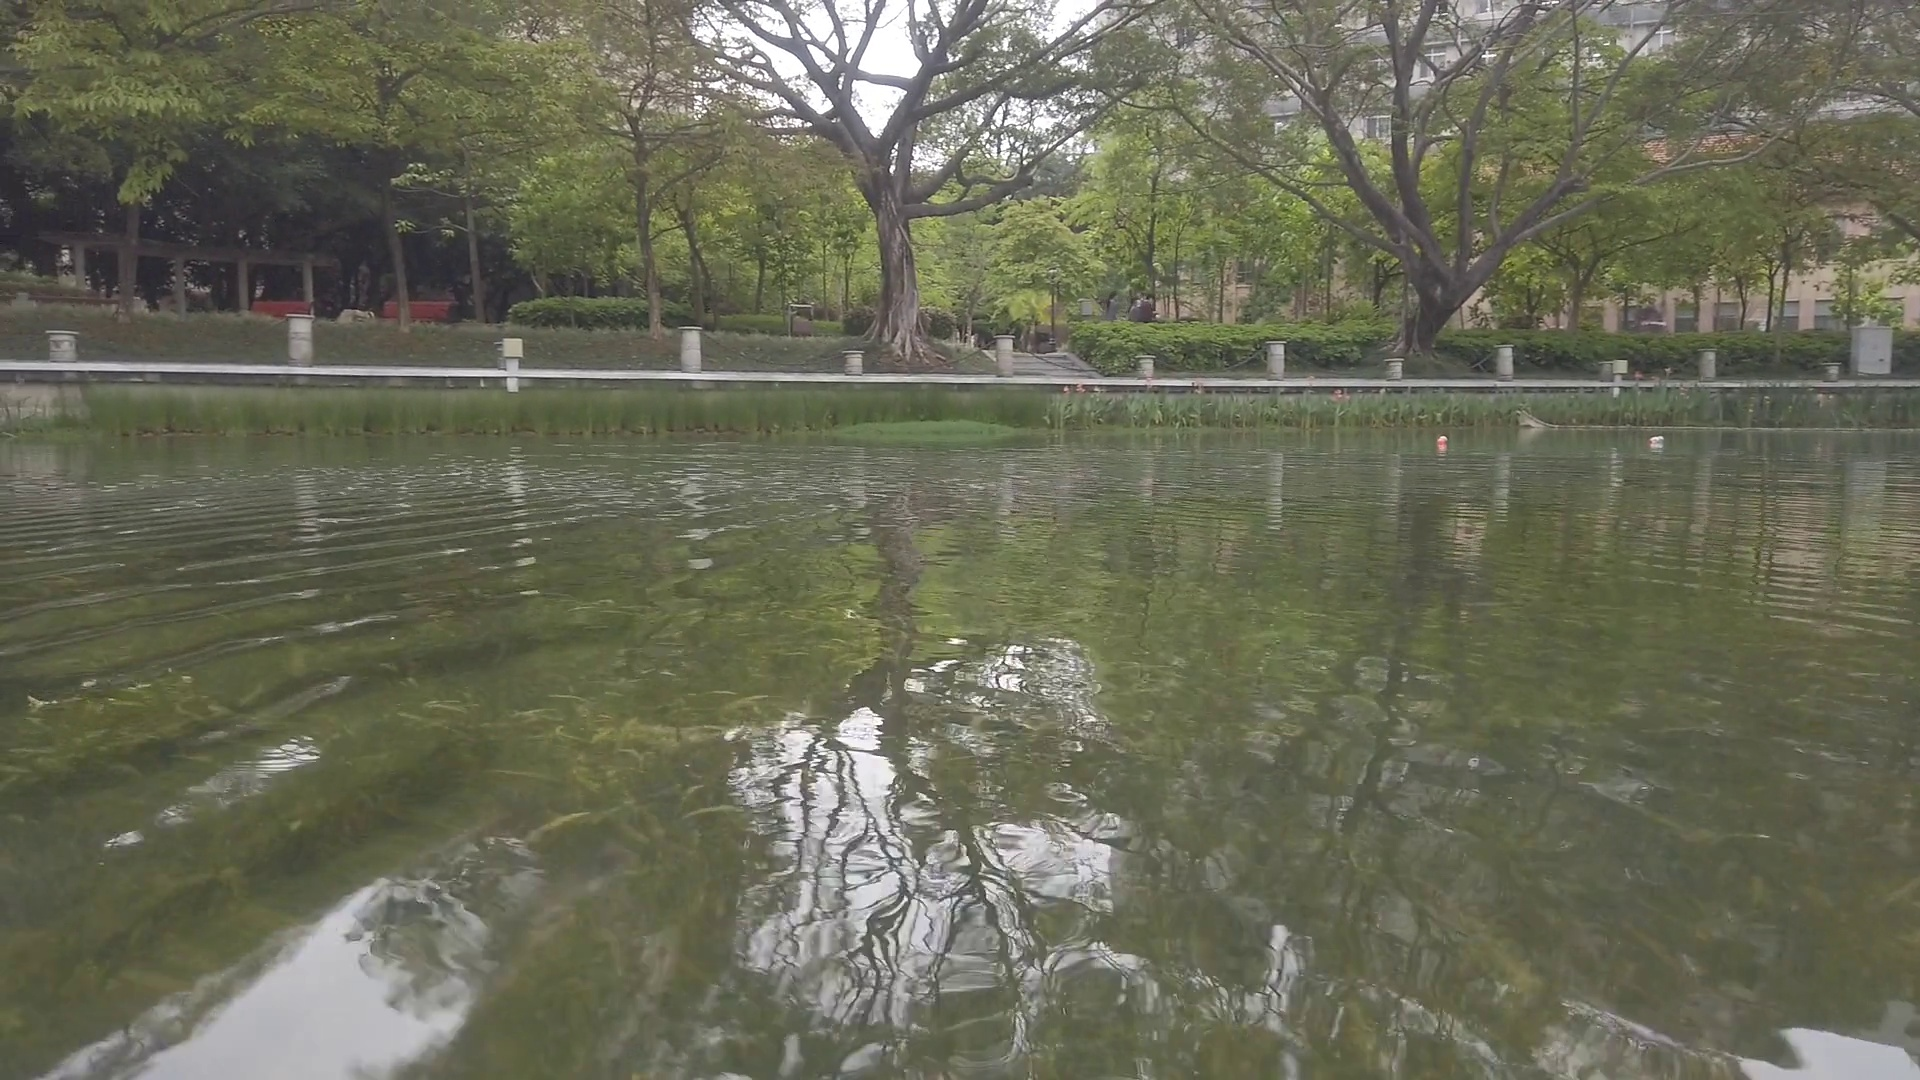bottle: (1437, 433, 1448, 447), (1648, 436, 1665, 444)
